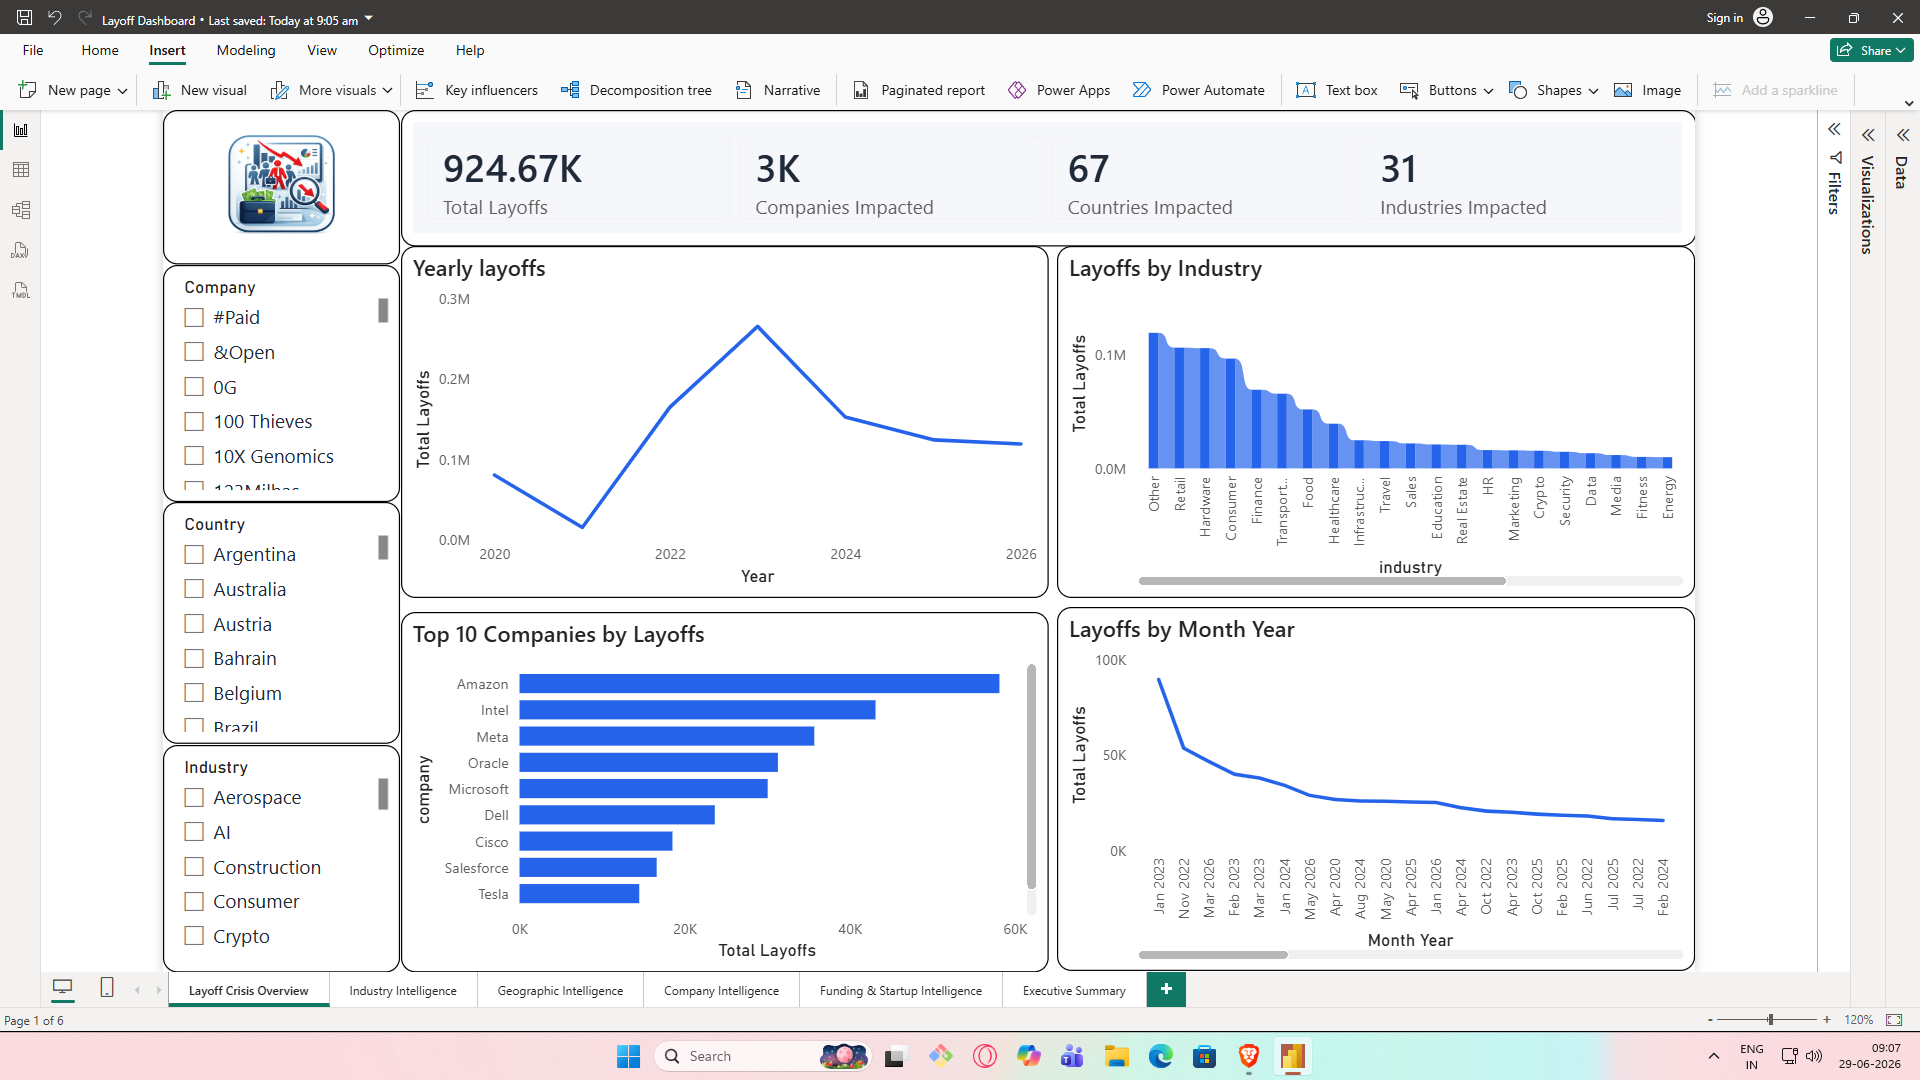

Layout of this report page (visuals, bound fields, positions):
{"tool":"powerbi","page":{"name":"Layoff Crisis Overview","canvas":[1280,720],"ordinal":0},"visuals":[{"type":"cardVisual","fields":{"Data":["layoffs.Total Employees Laid Off","layoffs.Companies Impacted","layoffs.Countries Impacted","layoffs.Industries Impacted"]},"box":[198.4,0,1081.6,113.8],"z":0},{"type":"lineChart","title":"Yearly layoffs","fields":{"Y":["layoffs.Total Employees Laid Off"],"Category":["layoffs.date.Variation.Date Hierarchy.Year"]},"box":[198.4,113.8,540.8,293.7],"z":1000},{"type":"clusteredBarChart","title":"Top 10 Companies by Layoffs","fields":{"Y":["layoffs.Total Employees Laid Off"],"Category":["layoffs.company"]},"box":[198.4,419.2,540.8,300.5],"z":2000},{"type":"ribbonChart","title":"Layoffs by Industry","fields":{"Category":["layoffs.industry"],"Y":["layoffs.Total Employees Laid Off"]},"box":[747,113.8,533,293.7],"z":3000},{"type":"lineChart","title":"Layoffs by Month Year","fields":{"Y":["layoffs.Total Layoffs"],"Category":["layoffs.Month Year"]},"box":[747,415.3,533,304.4],"z":4000},{"type":"slicer","fields":{"Values":["layoffs.company"]},"box":[0,129.4,198.4,198.4],"z":4001},{"type":"slicer","fields":{"Values":["layoffs.country"]},"box":[0,327.8,198.4,202.3],"z":4002},{"type":"slicer","fields":{"Values":["layoffs.industry"]},"box":[0,530,198,190],"z":4003},{"type":"image","box":[0,0,198.4,129.4],"z":4004}]}

Visuals, with their boxes on the page's 1280x720 design canvas (x1, y1, x2, y2). These are canvas units, not pixel positions in the 1920x1080 screenshot, which may show the page scaled, cropped or inside an application window:
cardVisual - layoffs.Total Employees Laid Off x layoffs.Companies Impacted: <bbox>198, 0, 1280, 114</bbox>
"Yearly layoffs" lineChart: <bbox>198, 114, 739, 408</bbox>
"Top 10 Companies by Layoffs" clusteredBarChart: <bbox>198, 419, 739, 720</bbox>
"Layoffs by Industry" ribbonChart: <bbox>747, 114, 1280, 408</bbox>
"Layoffs by Month Year" lineChart: <bbox>747, 415, 1280, 720</bbox>
slicer - layoffs.company: <bbox>0, 129, 198, 328</bbox>
slicer - layoffs.country: <bbox>0, 328, 198, 530</bbox>
slicer - layoffs.industry: <bbox>0, 530, 198, 720</bbox>
image: <bbox>0, 0, 198, 129</bbox>
